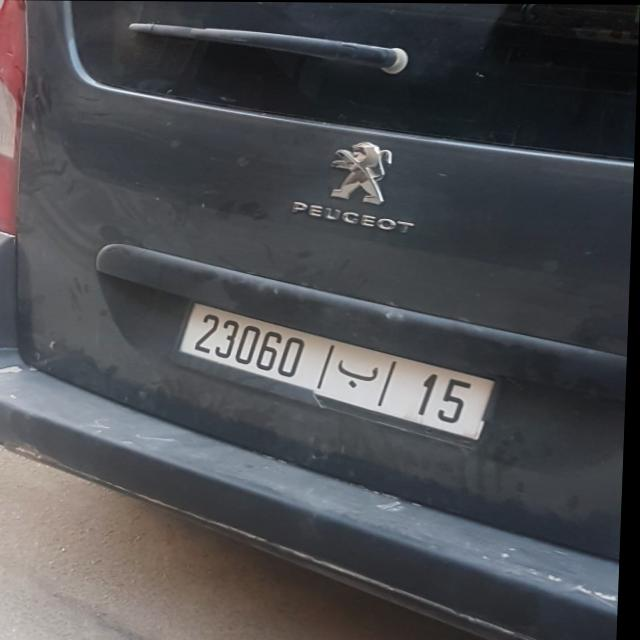License-Plate: (183, 304, 497, 438)
